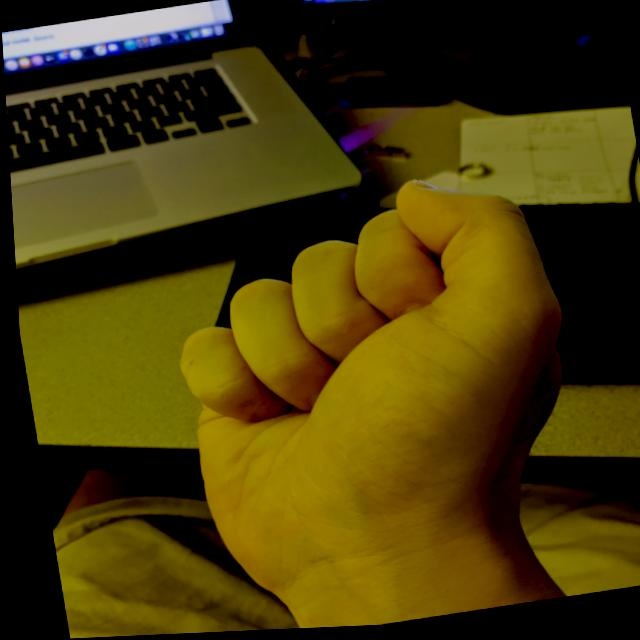A: (128, 158, 619, 631)
